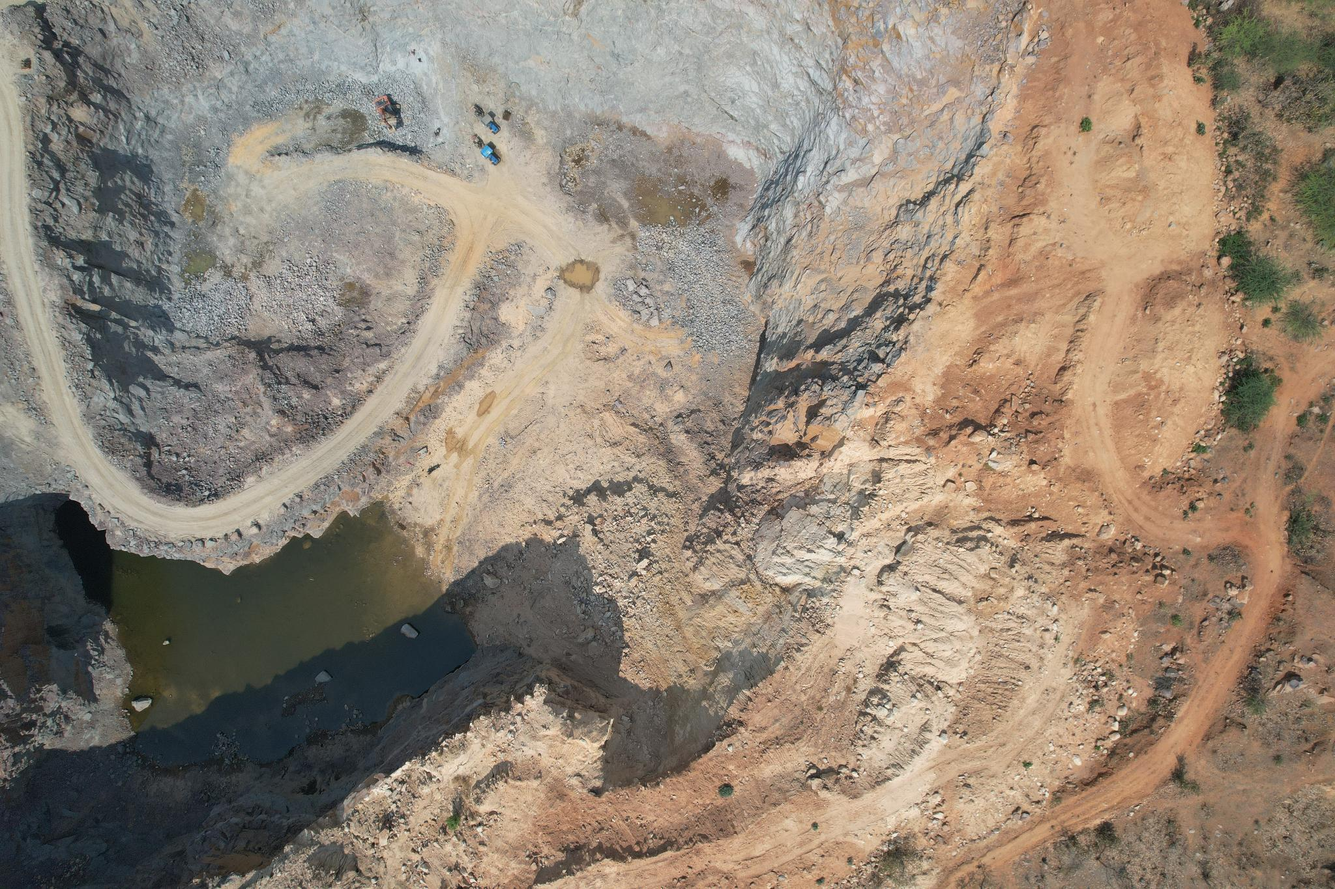benches: (0, 60, 503, 541)
excavator: (377, 90, 412, 137)
